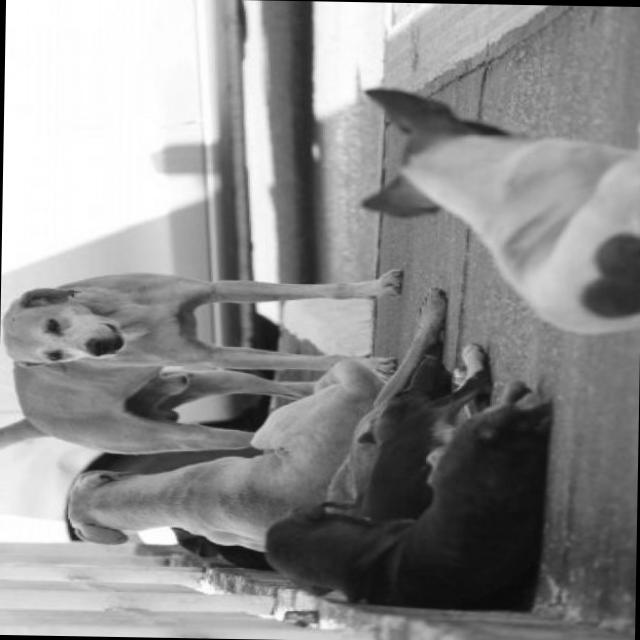laying down: (260, 362, 558, 628), (354, 70, 640, 346)
